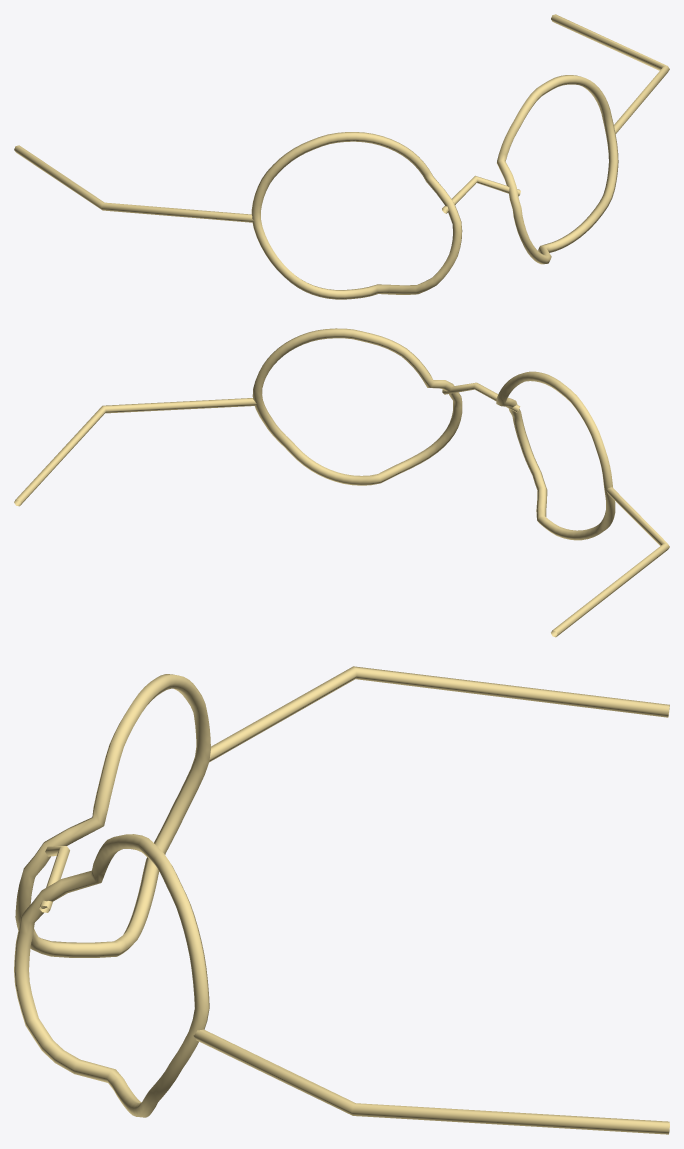
File: glasses_round_bear_tailored.glb
3 renders of one model, top to bottom at view 1: azimuth 30°, elevation 25°; view 2: azimuth 150°, elevation 25°; view 3: azimuth 270°, elevation 25°, orthographic. The views are drawn at different scales.
Visible parts, largest first — view 1: Montura.008, Montura.009, Patilla curva.008, Patilla curva.009, Puente nasal.004; view 2: Montura.009, Montura.008, Patilla curva.009, Patilla curva.008, Puente nasal.004; view 3: Montura.009, Montura.008, Patilla curva.009, Patilla curva.008, Puente nasal.004.
Boxes of the visible parts, x1,y1,x2,y2 form: Montura.008: [251, 132, 462, 299]; Montura.009: [497, 75, 618, 264]; Patilla curva.008: [14, 145, 253, 222]; Patilla curva.009: [551, 14, 669, 133]; Puente nasal.004: [442, 175, 520, 213]; Montura.009: [252, 328, 462, 485]; Montura.008: [496, 371, 615, 540]; Patilla curva.009: [14, 398, 256, 506]; Patilla curva.008: [551, 487, 669, 637]; Puente nasal.004: [442, 382, 520, 412]; Montura.009: [14, 834, 209, 1117]; Montura.008: [15, 674, 210, 957]; Patilla curva.009: [193, 1029, 669, 1134]; Patilla curva.008: [209, 666, 669, 762]; Puente nasal.004: [39, 846, 69, 912].
Bounding box in the file's own units: 0.7972 × 0.2161 × 0.5001.
